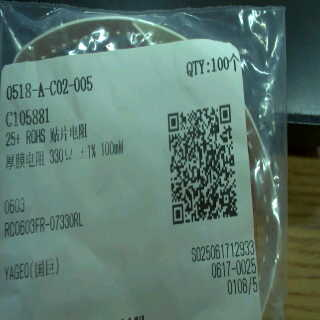330R: (46, 145, 76, 166)
